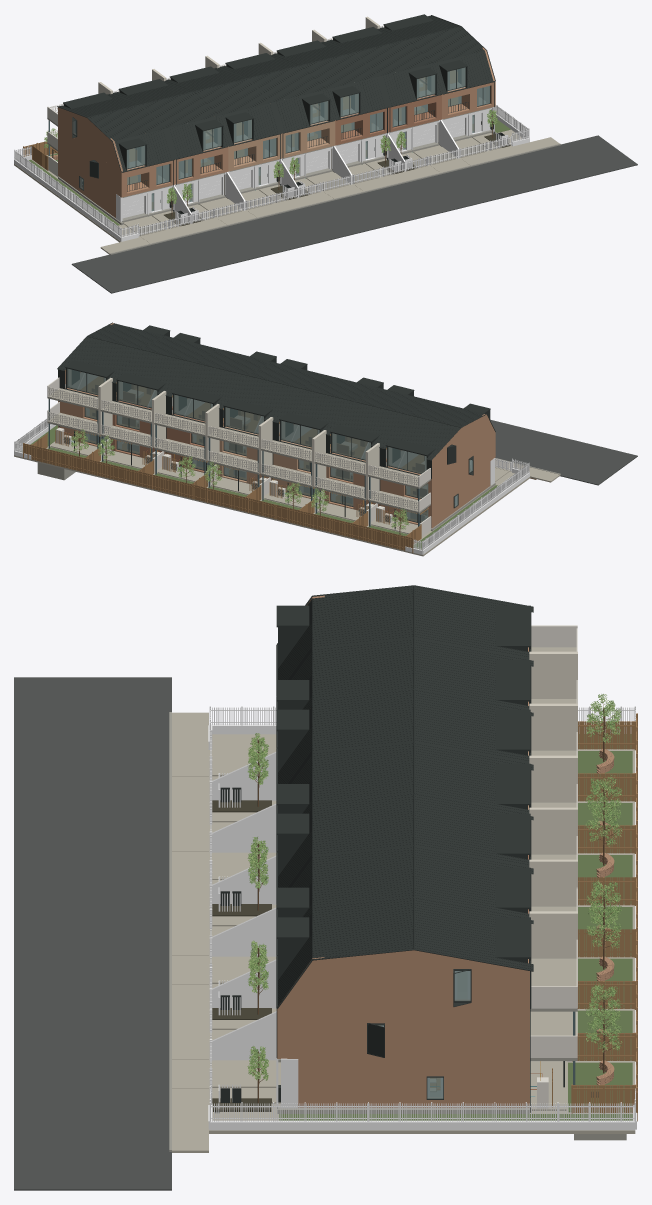
The model's file is terrace-7.glb.
The picture shows the model from 3 angles, top to bottom: view 1: azimuth 30°, elevation 25°; view 2: azimuth 150°, elevation 25°; view 3: azimuth 270°, elevation 25°; orthographic projection. The views are drawn at different scales.
Parts seen in each view (by area): view 1: TH00 | civil | body | Road asphalt, TH00 | civil | body | Limestone paving, TH01 | architecture | body | Bronze charcoal metal, TH07 | architecture | body | Bronze charcoal metal, TH02 | architecture | body | Bronze charcoal metal, TH04 | architecture | body | Bronze charcoal metal, TH06 | architecture | body | Bronze charcoal metal, TH03 | architecture | body | Bronze charcoal metal, TH05 | architecture | body | Bronze charcoal metal, TH01 | structure | body | Warm brick 1, TH00 | landscape | body | Pure white exterior render, TH00 | architecture | facade | Pure white exterior render (+48 smaller); view 2: TH00 | landscape | body | Oak joinery and framing, TH00 | civil | body | Road asphalt, TH01 | architecture | body | Bronze charcoal metal, TH00 | architecture | body | Warm lime render, TH07 | architecture | body | Bronze charcoal metal, TH03 | architecture | body | Bronze charcoal metal, TH05 | architecture | body | Bronze charcoal metal, TH06 | architecture | body | Bronze charcoal metal, TH04 | architecture | body | Bronze charcoal metal, TH02 | architecture | body | Bronze charcoal metal, TH01 | structure | body | Warm brick 1, TH00 | civil | body | Limestone paving (+48 smaller); view 3: TH00 | civil | body | Road asphalt, TH00 | civil | body | Limestone paving, TH07 | structure | body | Warm brick 1, TH07 | architecture | body | Bronze charcoal metal, TH00 | architecture | body | Warm lime render, TH01 | architecture | body | Bronze charcoal metal, TH03 | architecture | body | Bronze charcoal metal, TH05 | architecture | body | Bronze charcoal metal, TH00 | landscape | body | Pure white exterior render, TH00 | architecture | facade | Pure white exterior render, TH06 | architecture | body | Bronze charcoal metal, TH02 | architecture | body | Bronze charcoal metal (+33 smaller).
Part boxes in pixels (box(x1,y1,x2,y2)): TH00 | civil | body | Road asphalt: box(71, 135, 637, 293); TH00 | civil | body | Limestone paving: box(14, 129, 559, 254); TH01 | architecture | body | Bronze charcoal metal: box(57, 92, 169, 190); TH07 | architecture | body | Bronze charcoal metal: box(380, 14, 495, 106); TH02 | architecture | body | Bronze charcoal metal: box(113, 79, 223, 179); TH04 | architecture | body | Bronze charcoal metal: box(219, 53, 330, 153); TH06 | architecture | body | Bronze charcoal metal: box(326, 27, 437, 127); TH03 | architecture | body | Bronze charcoal metal: box(166, 66, 276, 158); TH05 | architecture | body | Bronze charcoal metal: box(273, 40, 383, 132); TH01 | structure | body | Warm brick 1: box(59, 128, 120, 217); TH00 | landscape | body | Pure white exterior render: box(14, 104, 529, 241); TH00 | architecture | facade | Pure white exterior render: box(116, 120, 459, 223); TH00 | landscape | body | Oak joinery and framing: box(23, 443, 413, 552); TH00 | civil | body | Road asphalt: box(490, 419, 637, 485); TH01 | architecture | body | Bronze charcoal metal: box(379, 401, 495, 508); TH00 | architecture | body | Warm lime render: box(98, 377, 379, 499); TH07 | architecture | body | Bronze charcoal metal: box(57, 322, 170, 395); TH03 | architecture | body | Bronze charcoal metal: box(272, 375, 383, 447); TH05 | architecture | body | Bronze charcoal metal: box(165, 349, 276, 421); TH06 | architecture | body | Bronze charcoal metal: box(112, 333, 218, 408); TH04 | architecture | body | Bronze charcoal metal: box(219, 359, 325, 434); TH02 | architecture | body | Bronze charcoal metal: box(326, 385, 432, 460); TH01 | structure | body | Warm brick 1: box(433, 434, 493, 526); TH00 | civil | body | Limestone paving: box(14, 440, 560, 556); TH00 | civil | body | Road asphalt: box(14, 677, 171, 1190); TH00 | civil | body | Limestone paving: box(172, 712, 635, 1152); TH07 | structure | body | Warm brick 1: box(281, 1009, 523, 1107); TH07 | architecture | body | Bronze charcoal metal: box(276, 897, 533, 1099); TH00 | architecture | body | Warm lime render: box(529, 651, 577, 1007); TH01 | architecture | body | Bronze charcoal metal: box(276, 585, 533, 668); TH03 | architecture | body | Bronze charcoal metal: box(276, 689, 533, 772); TH05 | architecture | body | Bronze charcoal metal: box(276, 793, 533, 876); TH00 | landscape | body | Pure white exterior render: box(208, 706, 637, 1130); TH00 | architecture | facade | Pure white exterior render: box(210, 752, 298, 1108); TH06 | architecture | body | Bronze charcoal metal: box(276, 845, 533, 917); TH02 | architecture | body | Bronze charcoal metal: box(276, 637, 533, 709).
Size of the model in its own units: 69 by 12.26 by 35.55.
